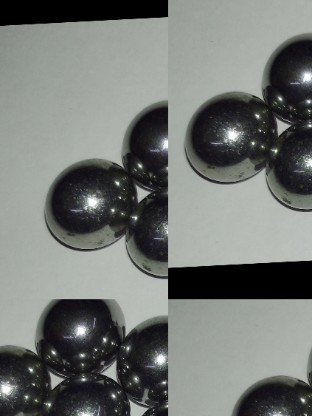ironball: (42, 156, 137, 259), (180, 86, 270, 188), (32, 293, 130, 380), (116, 306, 169, 416), (263, 116, 310, 224), (119, 90, 167, 194), (261, 27, 310, 126), (122, 181, 167, 279), (0, 333, 52, 414), (227, 369, 310, 414), (42, 372, 130, 414)
